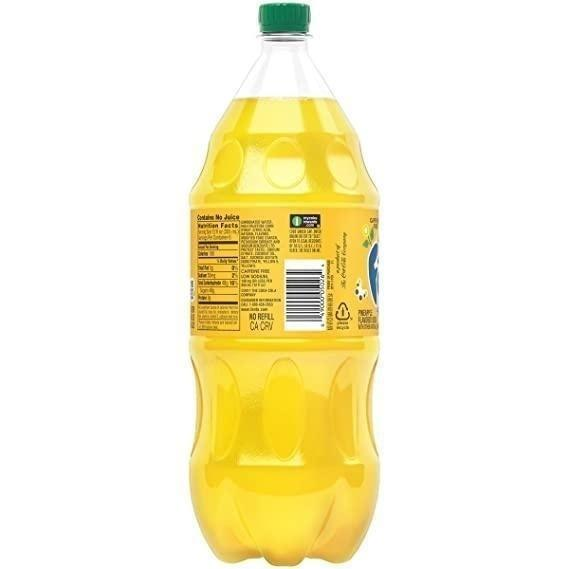bottle-plastic: (182, 0, 387, 568)
